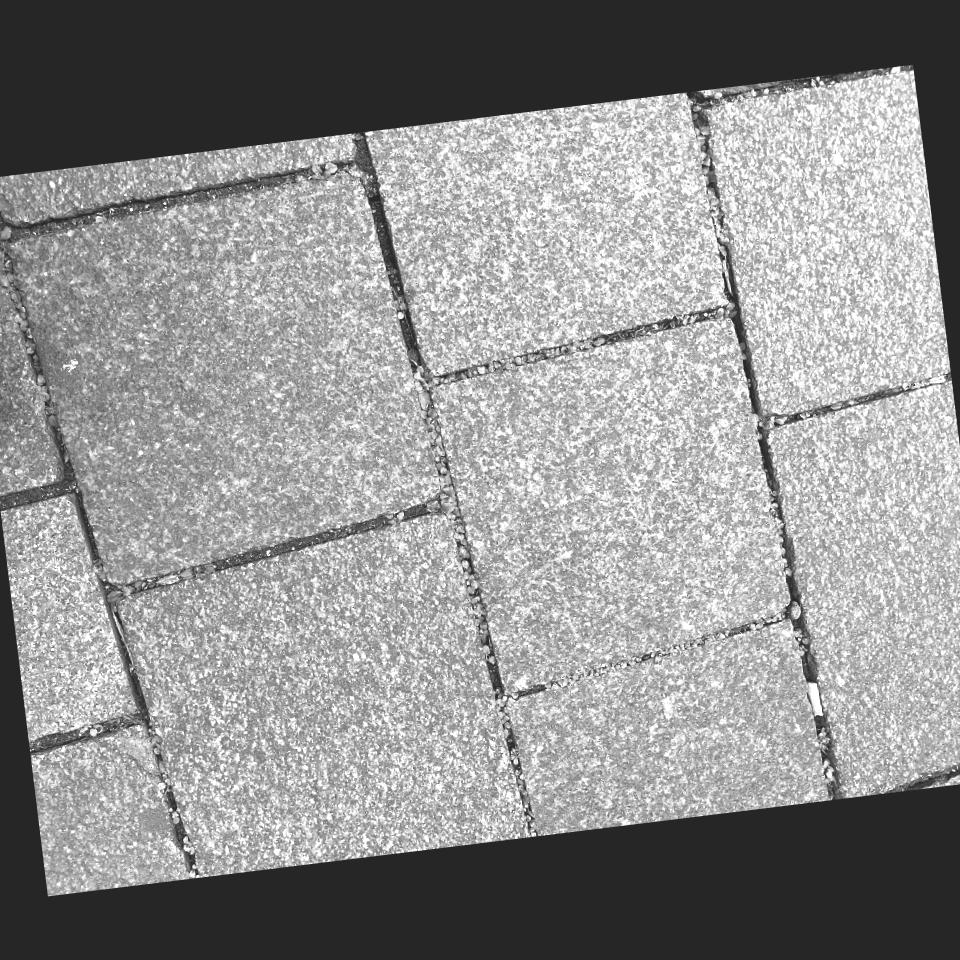weed: (428, 301, 737, 385), (508, 607, 788, 699), (414, 367, 495, 674), (696, 125, 729, 255), (0, 240, 29, 332), (36, 375, 58, 428), (23, 334, 37, 365), (690, 101, 699, 121), (0, 227, 10, 236)
